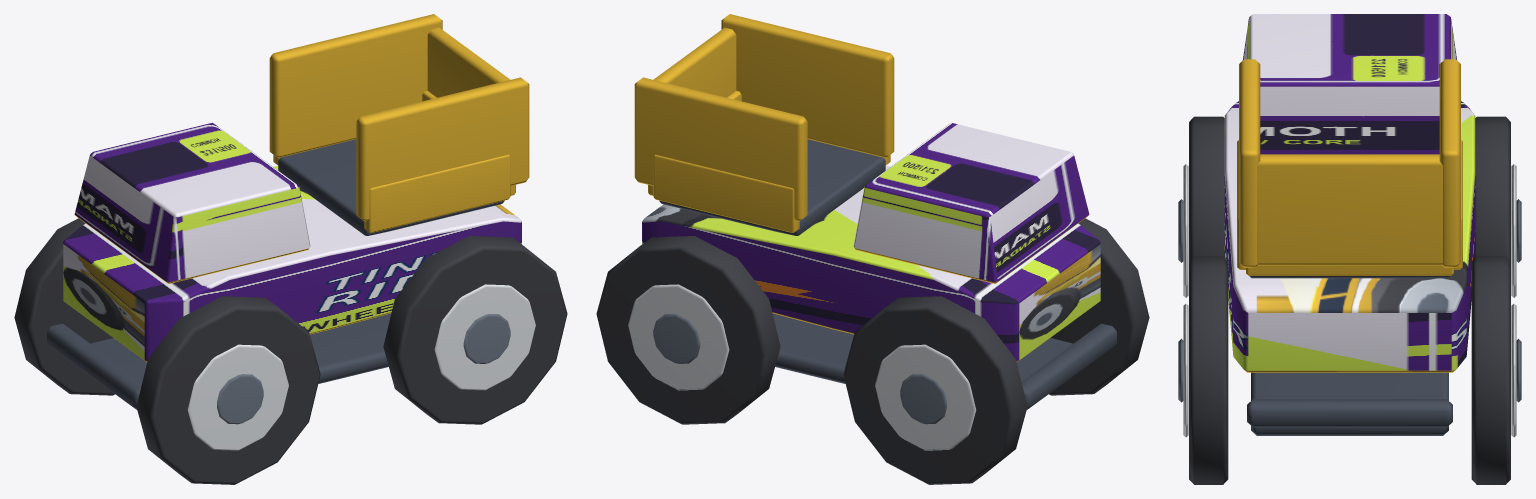
3 renders of one model, left to right at view 1: azimuth 30°, elevation 25°; view 2: azimuth 150°, elevation 25°; view 3: azimuth 270°, elevation 25°, orthographic. The views are drawn at different scales.
Parts seen in each view (by area): view 1: BW-04_connected_shell, BW-04_cabin, Tire, Tire.002, raised tipper wall.001, raised tipper wall, Tire.001, cargo side, Rim, Rim.002, underbody, cargo floor (+4 smaller); view 2: BW-04_connected_shell, BW-04_cabin, Tire.001, Tire.003, raised tipper wall, raised tipper wall.001, Tire, cargo side.001, Rim.001, Rim.003, underbody, cargo floor (+4 smaller); view 3: BW-04_connected_shell, BW-04_cabin, raised tail gate, Tire.002, Tire.003, underbody, rear bumper, Tire, Tire.001, raised tipper wall, raised tipper wall.001, cargo tail (+7 smaller).
Part boxes in pixels (box(x1,y1,x2,y2)): BW-04_connected_shell: box(63, 166, 521, 361); BW-04_cabin: box(74, 122, 310, 283); Tire: box(136, 296, 320, 484); Tire.002: box(383, 236, 567, 424); raised tipper wall.001: box(269, 14, 442, 157); raised tipper wall: box(356, 77, 529, 221); Tire.001: box(14, 218, 114, 395); cargo side: box(364, 154, 510, 232); Rim: box(187, 344, 288, 450); Rim.002: box(434, 284, 535, 390); underbody: box(91, 313, 391, 383); cargo floor: box(278, 139, 504, 235); BW-04_connected_shell: box(642, 166, 1100, 361); BW-04_cabin: box(853, 122, 1089, 283); Tire.001: box(843, 296, 1027, 484); Tire.003: box(596, 236, 780, 424); raised tipper wall: box(721, 14, 894, 157); raised tipper wall.001: box(634, 77, 807, 221); Tire: box(1049, 218, 1149, 395); cargo side.001: box(653, 154, 799, 232); Rim.001: box(875, 344, 976, 450); Rim.003: box(628, 284, 729, 390); underbody: box(772, 313, 1072, 383); cargo floor: box(659, 139, 885, 235); BW-04_connected_shell: box(1224, 101, 1475, 372); BW-04_cabin: box(1242, 14, 1457, 154); raised tail gate: box(1257, 154, 1442, 265); Tire.002: box(1189, 256, 1228, 484); Tire.003: box(1471, 256, 1510, 484); underbody: box(1251, 372, 1448, 435); rear bumper: box(1247, 399, 1452, 427); Tire: box(1189, 116, 1224, 260); Tire.001: box(1475, 116, 1510, 260); raised tipper wall: box(1239, 59, 1260, 267); raised tipper wall.001: box(1439, 59, 1460, 267); cargo tail: box(1246, 265, 1453, 275).
Bounding box in the file's own units: 370 × 264 × 227.
